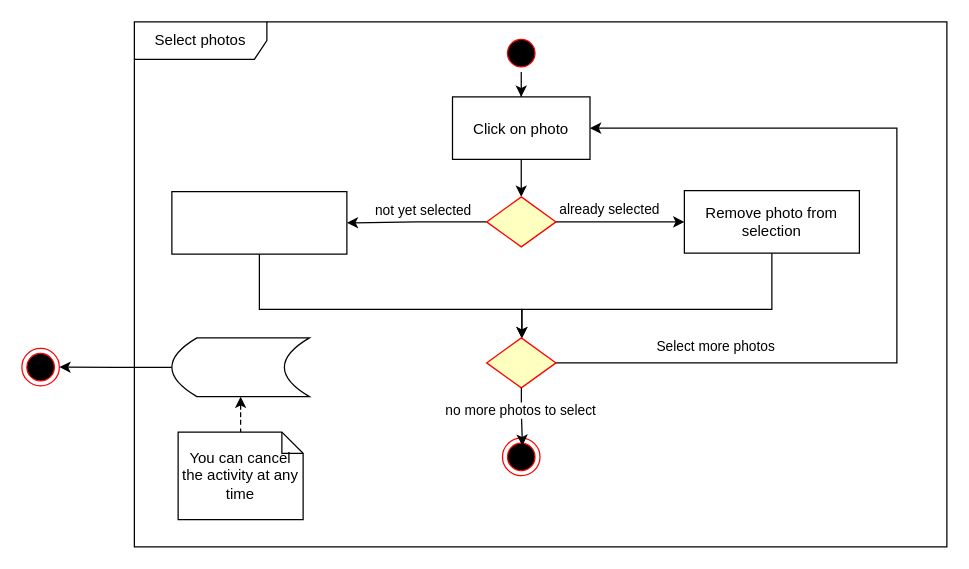
Image size: 969x569. Some labels were removed from this diagram. Each missing label, with the centre of its shape:
"Cancel" goes at (240,367).
"Save photo in selection" goes at (259,222).
